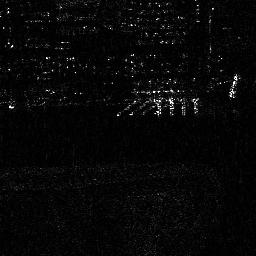ship: (228, 72, 241, 100)
